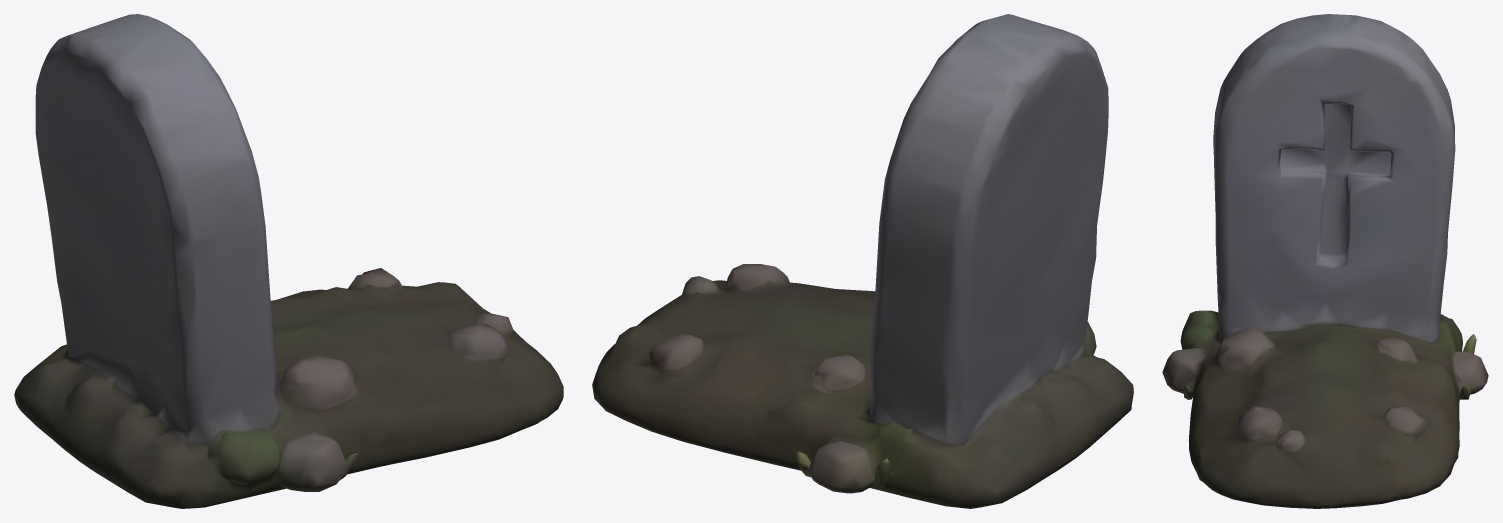
Rendered from pro_grave-CXqOCFFN.glb.
3 views of the same model, side by side, from view 1: azimuth 30°, elevation 25°; view 2: azimuth 150°, elevation 25°; view 3: azimuth 270°, elevation 25° (orthographic). The views are drawn at different scales.
Visible parts, largest first — view 1: tripo_node_ef965ff1-88e7-4c05-bb57-f800ccb714e2; view 2: tripo_node_ef965ff1-88e7-4c05-bb57-f800ccb714e2; view 3: tripo_node_ef965ff1-88e7-4c05-bb57-f800ccb714e2.
Part boxes in pixels (bbox=[...]): tripo_node_ef965ff1-88e7-4c05-bb57-f800ccb714e2: bbox=[14, 14, 563, 508]; tripo_node_ef965ff1-88e7-4c05-bb57-f800ccb714e2: bbox=[592, 14, 1133, 508]; tripo_node_ef965ff1-88e7-4c05-bb57-f800ccb714e2: bbox=[1162, 14, 1488, 508].
Size of the model in its own units: 1 by 0.8857 by 0.7747.
1 material, 1 textured.
